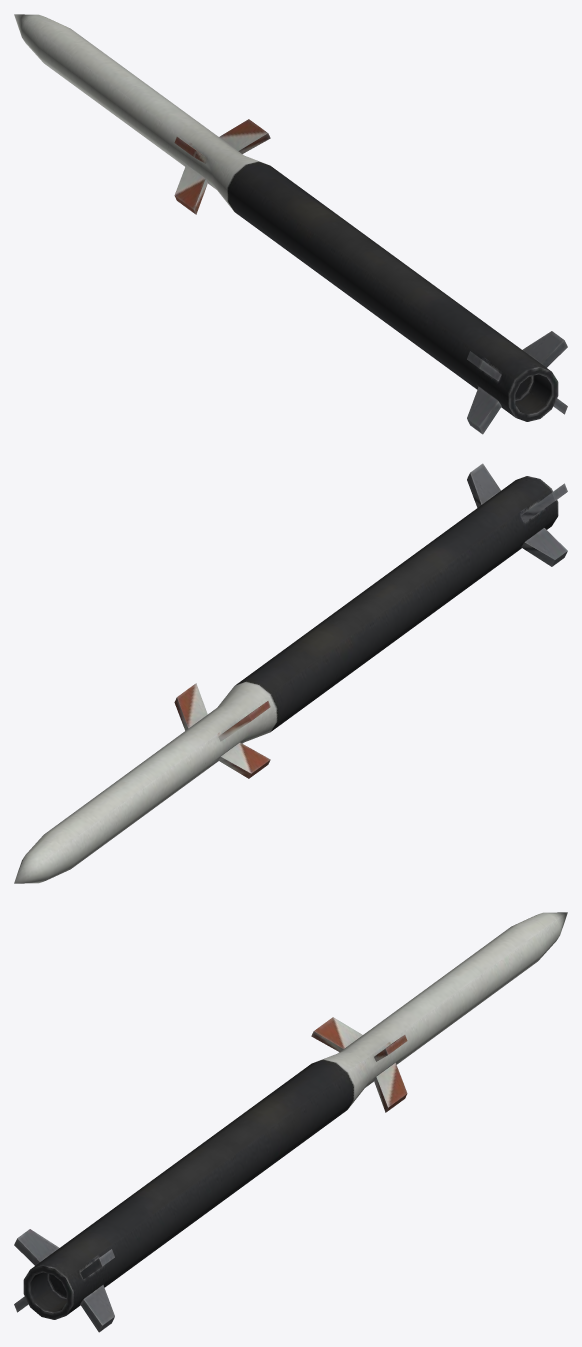
File: msl_9m311.glb
The picture shows the model from 3 angles, top to bottom: view 1: azimuth 30°, elevation 25°; view 2: azimuth 150°, elevation 25°; view 3: azimuth 330°, elevation 25°; orthographic projection.
Visible parts, largest first — view 1: body|TG_msl; view 2: body|TG_msl; view 3: body|TG_msl.
Part boxes in pixels (bbox=[...]): body|TG_msl: bbox=[14, 14, 567, 434]; body|TG_msl: bbox=[14, 463, 567, 883]; body|TG_msl: bbox=[14, 912, 567, 1332].
Bounding box in the file's own units: 0.251 × 0.2022 × 2.56.
1 material, 1 textured.
